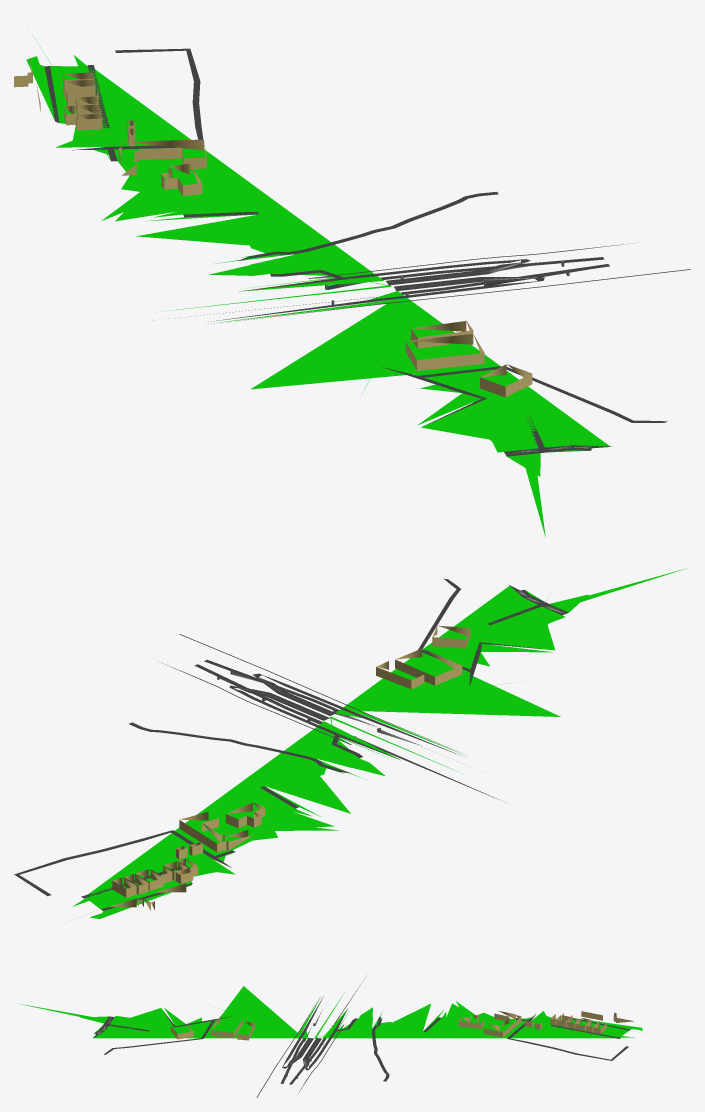
The picture shows the model from 3 angles, top to bottom: view 1: azimuth 30°, elevation 25°; view 2: azimuth 150°, elevation 25°; view 3: azimuth 270°, elevation 25°; orthographic projection. The views are drawn at different scales.
Size of the model in its own units: 377 by 10.5 by 830.
